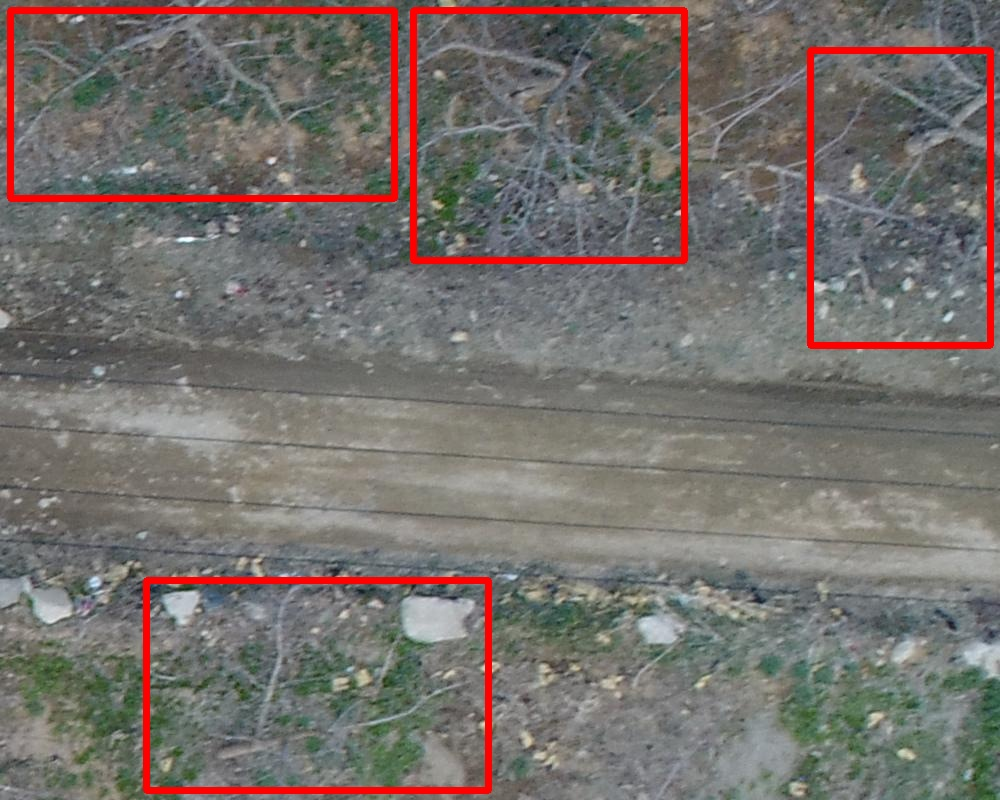apple: (10, 10, 394, 198), (146, 580, 488, 790), (413, 10, 684, 260), (810, 50, 990, 345)
